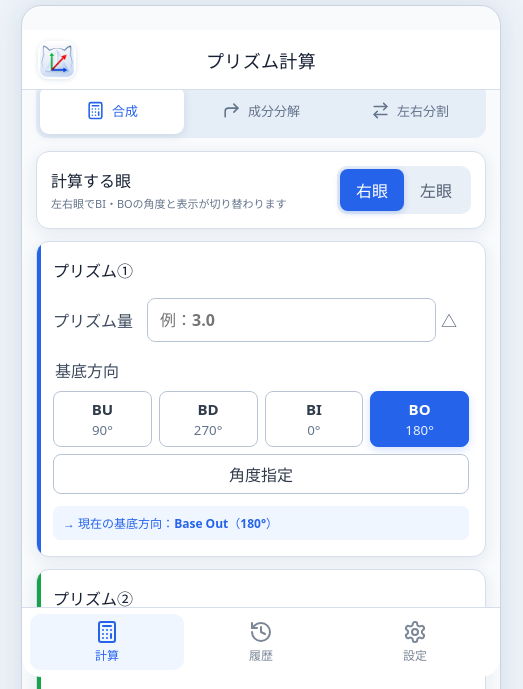
Test case: CalculatorPage › 左右分割結果を保存して履歴から確認できる
Click the tab "左右分割" at (410, 110), box [338,86,482,134]
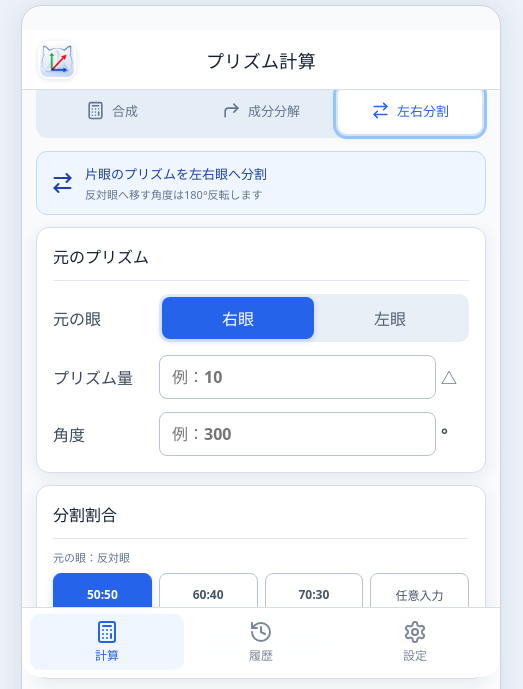
Type "10" into the number field named "分割するプリズム量" at (298, 377), box [159,355,436,399]
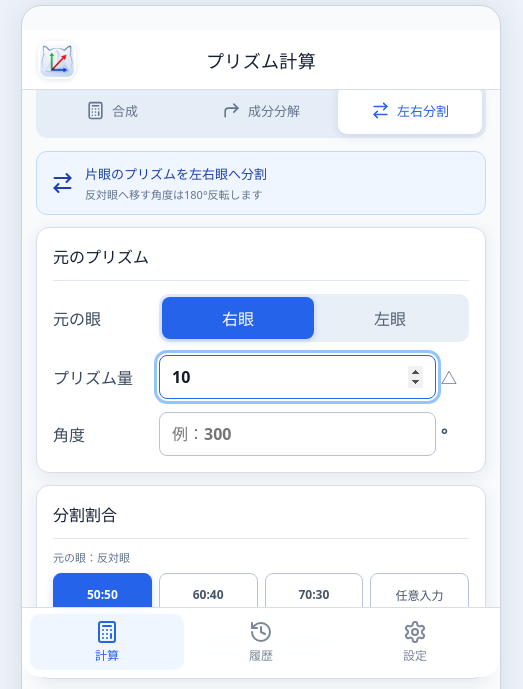
Type "300" into the number field named "分割する角度" at (298, 434), box [159,412,436,456]
(page scrolled)
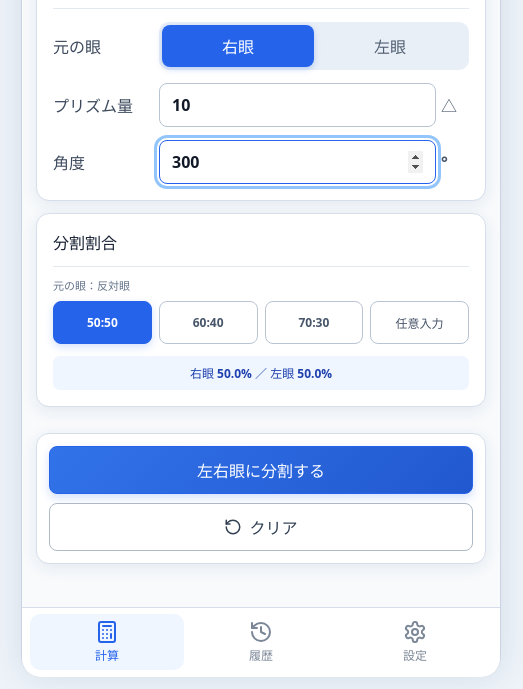
Click the button "左右眼に分割する" at (261, 470), box [49,446,473,494]
(page scrolled)
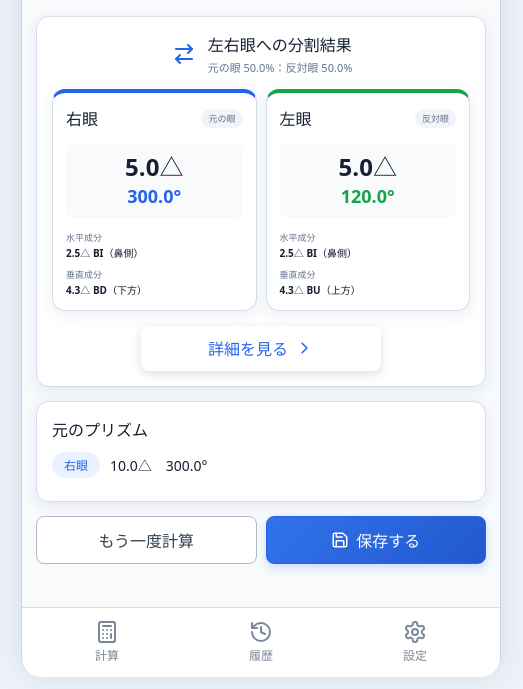
Click the button "保存する" at (376, 540), box [266,516,486,564]
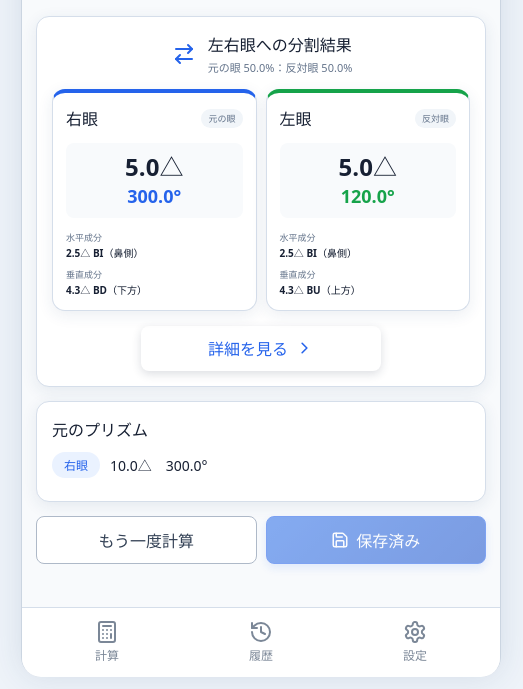
Click the link "履歴" at (261, 642), box [249,620,273,664]
(page scrolled)
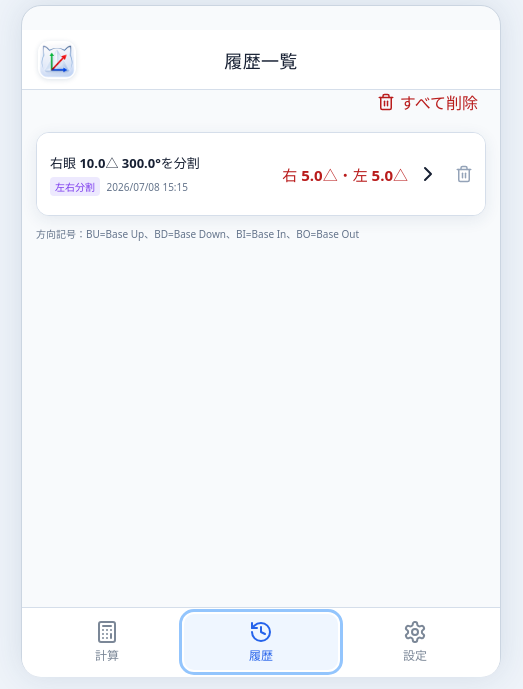
Check: the text "右眼 10.0△ 300.0°を分割" is shown, box [50,154,200,172]
Check: the text "右 5.0△・左 5.0△" is shown, box [282,164,408,184]
